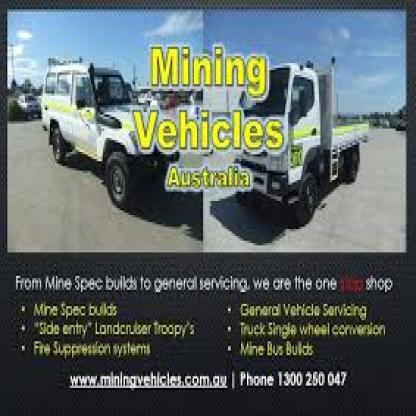dump_truck: (220, 33, 374, 229)
light_vehicle: (38, 33, 181, 208)
